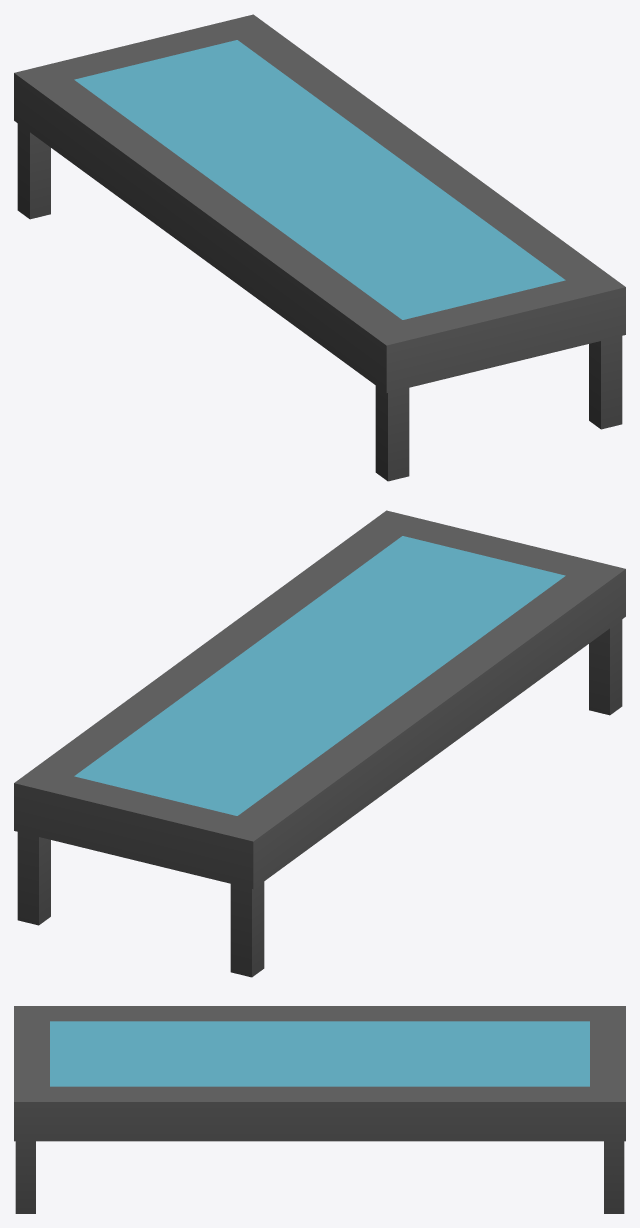
File: table glass.fbx
The picture shows the model from 3 angles, top to bottom: view 1: azimuth 30°, elevation 25°; view 2: azimuth 150°, elevation 25°; view 3: azimuth 270°, elevation 25°; orthographic projection. The views are drawn at different scales.
Visible parts, largest first — view 1: table_glass; view 2: table_glass; view 3: table_glass.
Part boxes in pixels (x1,y1,x2,y2): table_glass: [14, 14, 625, 481]; table_glass: [14, 510, 625, 977]; table_glass: [14, 1006, 625, 1213].
Size of the model in its own units: 80.76 by 44.28 by 218.
1 material, 1 textured.
